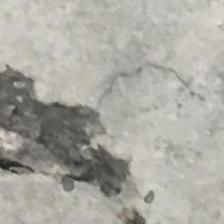Crack: (0, 55, 178, 224)
